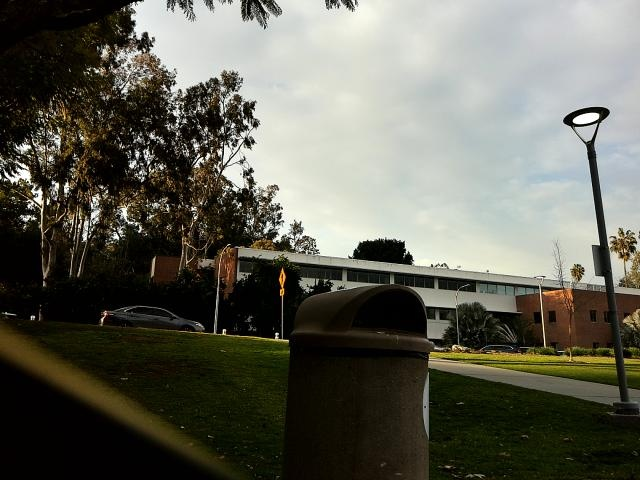trashcan: (284, 281, 442, 480)
